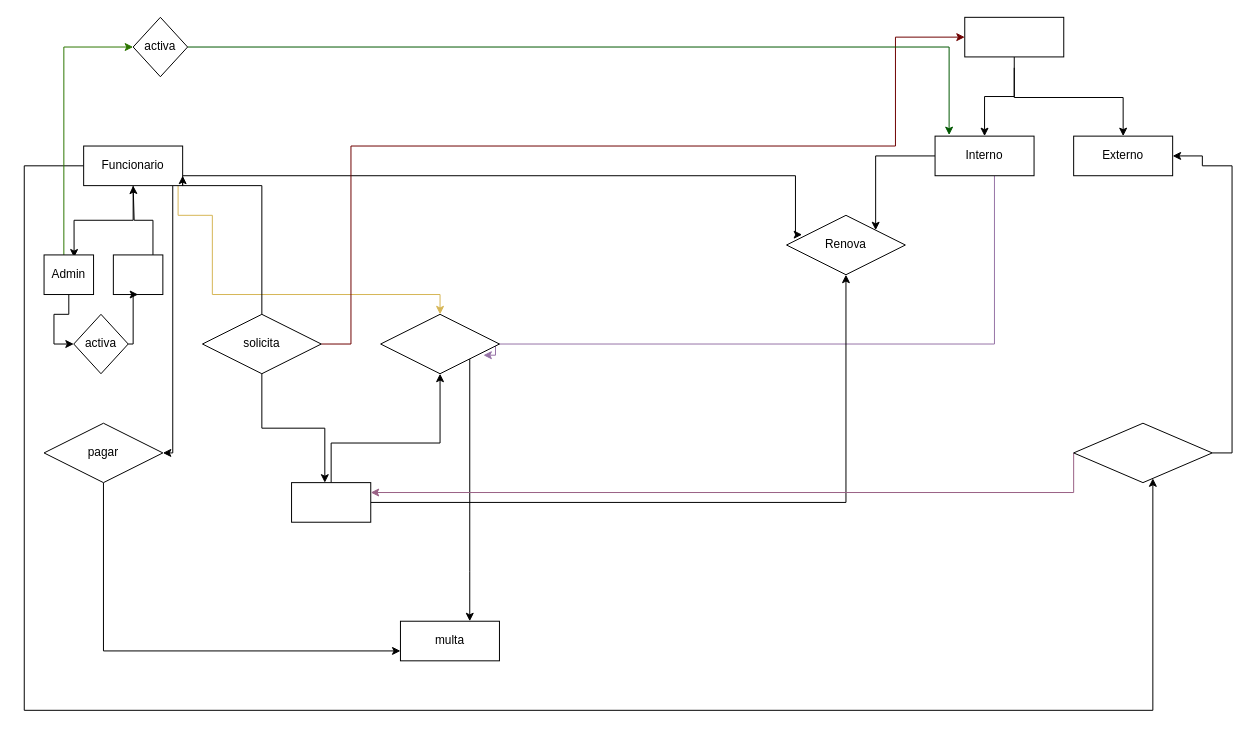
Image size: 1257x736. Some labels were removed from this diagram. The box of each missing label's shape, as (x1, y1, x2, y2) in pixels:
Atendent: (112, 254, 163, 295)
Devolve_Biblioteca: (1073, 422, 1212, 483)
Devolve_casa: (380, 313, 499, 374)
Livro: (291, 482, 371, 522)
Utente: (964, 16, 1064, 57)
